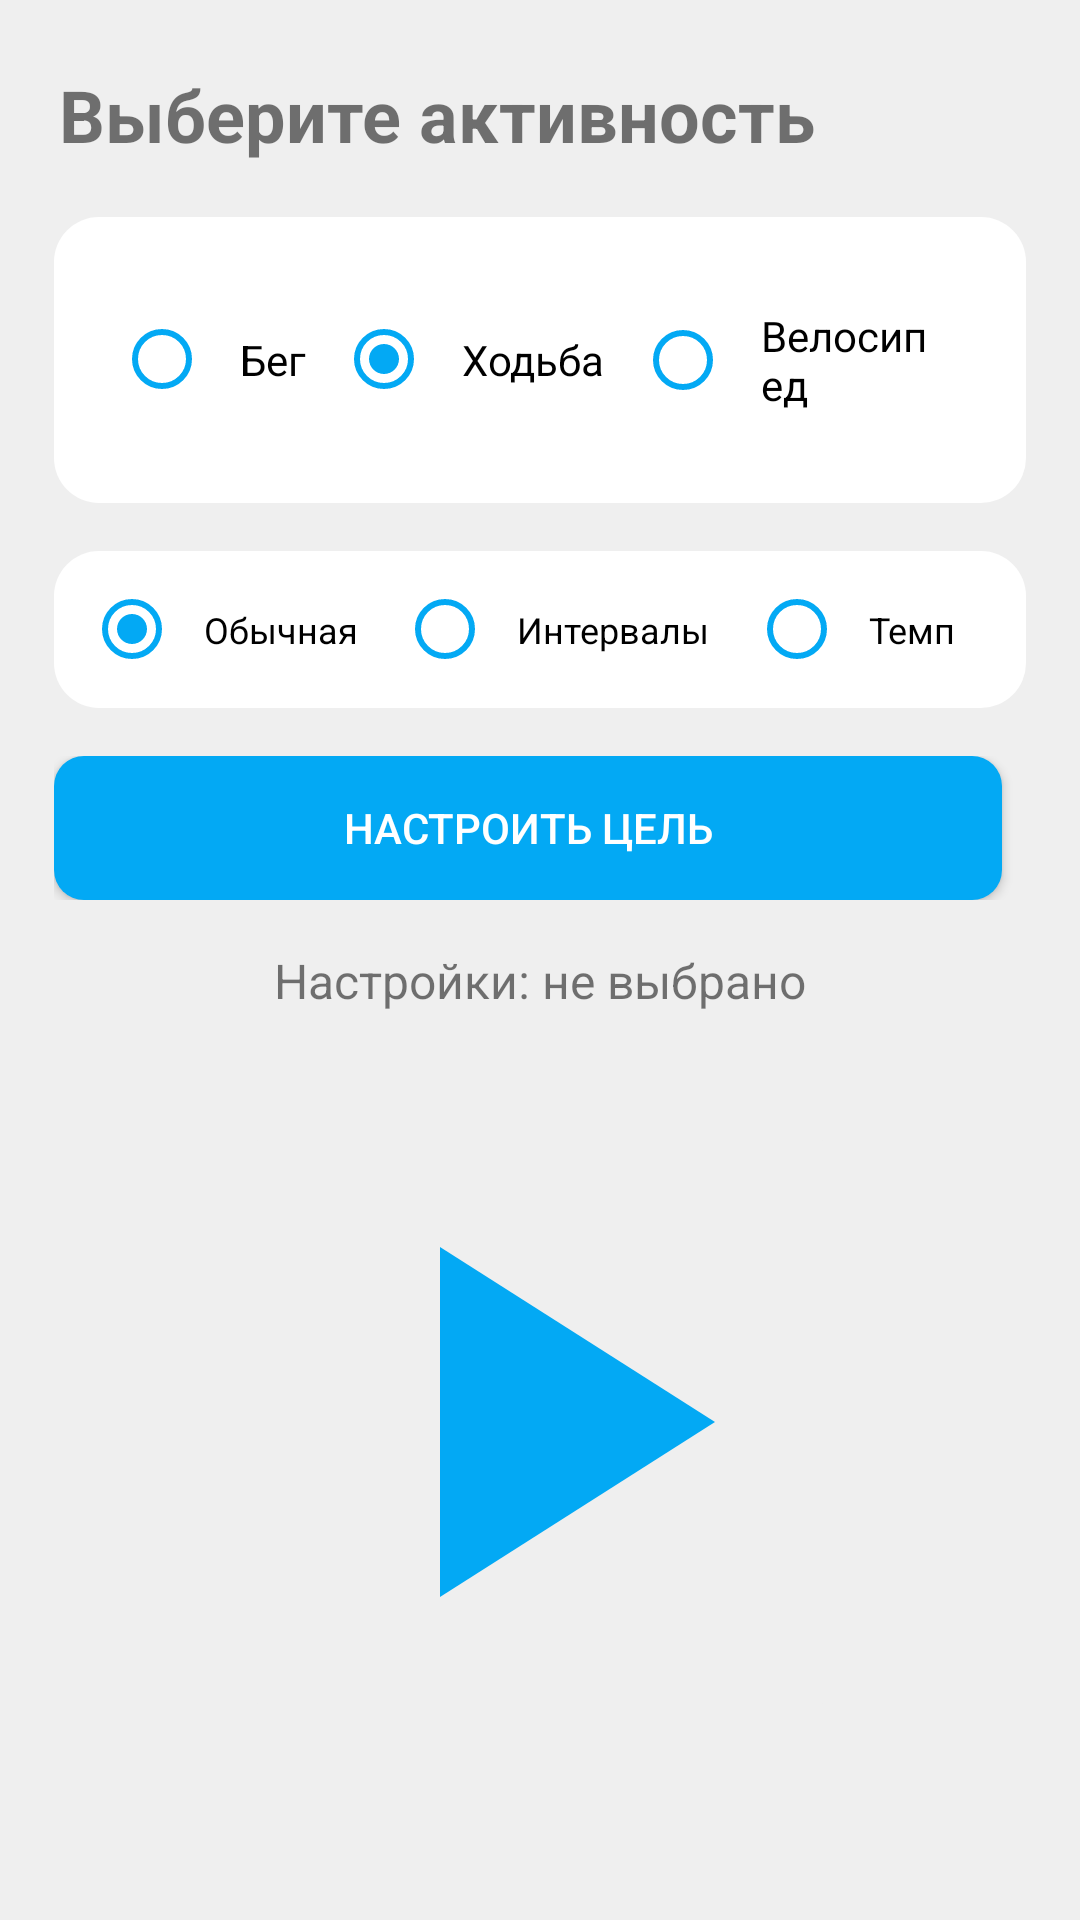

Point at icon controls on the screen. Image size 1080×1920, points as (x=x, y=y).
Старт: (x=577, y=1422)
